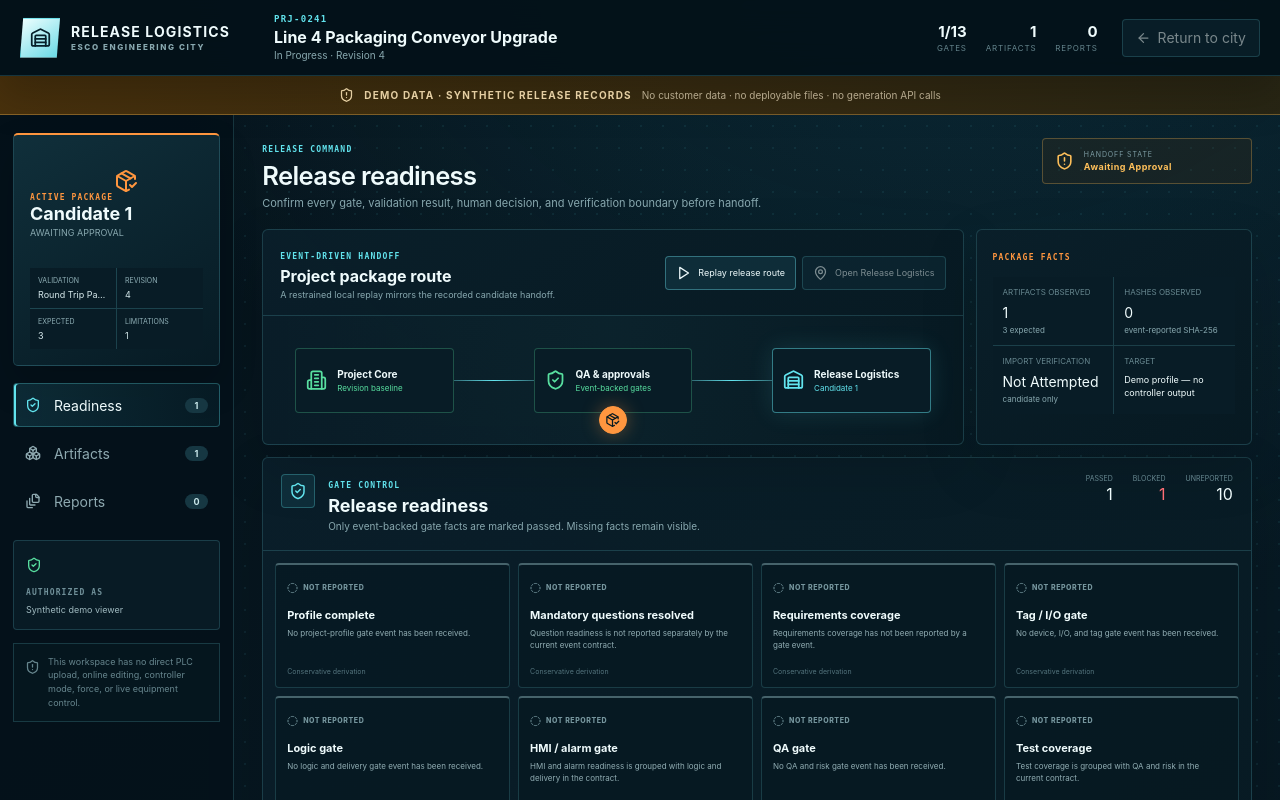
Test: ReleaseCenter › labels synthetic release state, explains disabled actions, and exposes every package folder
Check: the text "DEMO DATA · SYNTHETIC RELEASE RECORDS" is shown, box [364, 89, 632, 101]
Click the button "Artifacts 1" at coordinates (116, 453), box [13, 431, 220, 475]
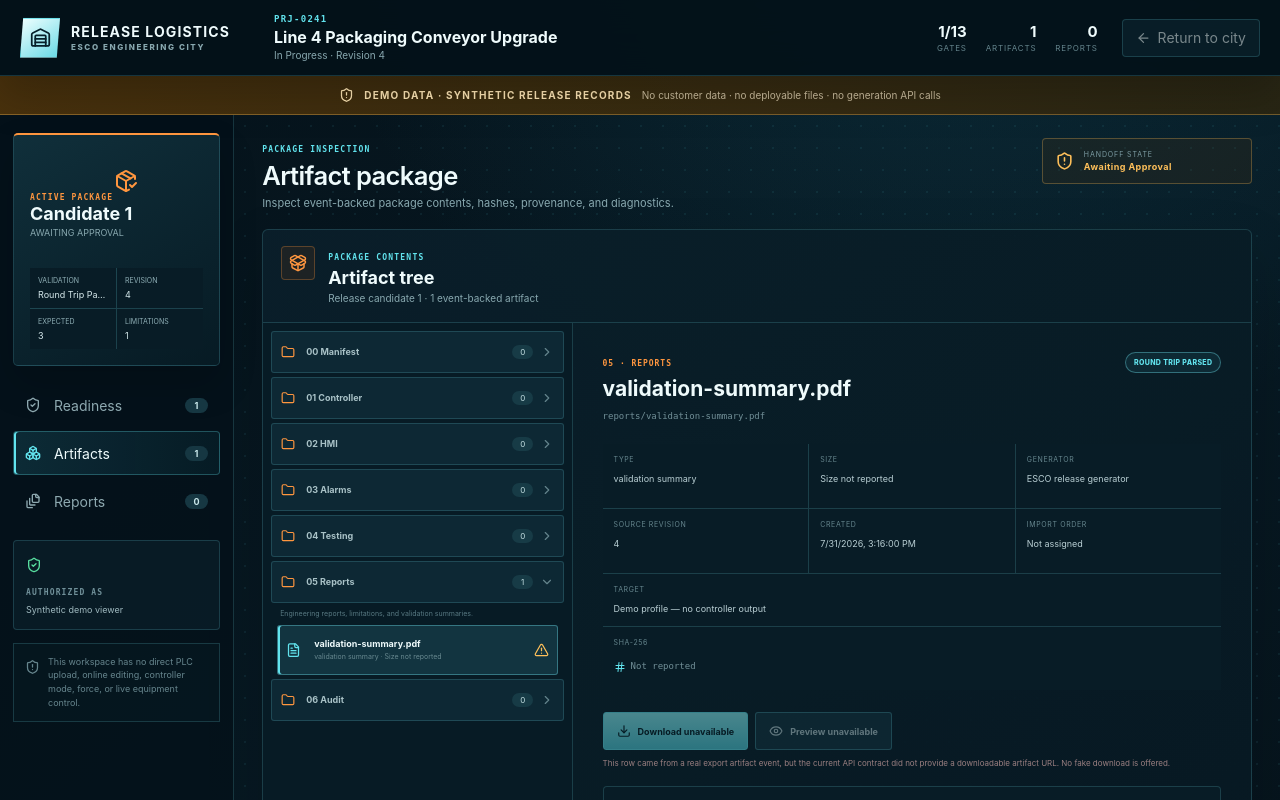
Check: the text "00 Manifest" is shown, box [306, 346, 359, 357]
Check: the text "01 Controller" is shown, box [306, 392, 362, 403]
Check: the text "02 HMI" is shown, box [306, 438, 338, 449]
